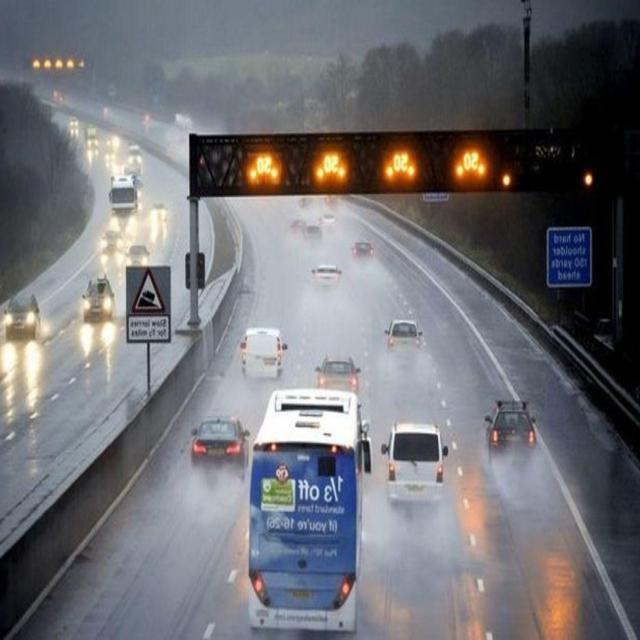Car: (190, 416, 250, 482), (486, 400, 537, 464), (2, 291, 41, 342), (315, 357, 363, 397), (384, 322, 426, 363), (80, 275, 116, 320), (308, 262, 342, 294), (101, 228, 122, 258), (126, 244, 151, 269), (350, 240, 376, 262), (302, 219, 322, 245), (126, 145, 144, 171), (149, 202, 168, 226), (321, 212, 337, 231), (290, 218, 306, 235), (68, 117, 80, 129)
Truck: (109, 172, 140, 238), (85, 124, 100, 151)
Van: (240, 327, 287, 381)
